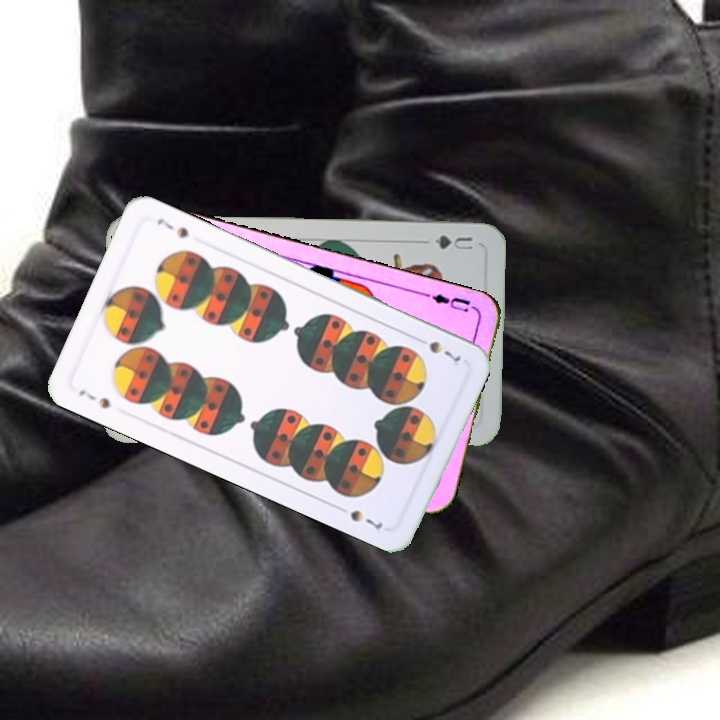EU: (422, 289, 480, 315)
GU: (429, 231, 476, 252)
S7: (411, 333, 463, 364), (74, 385, 113, 412)
